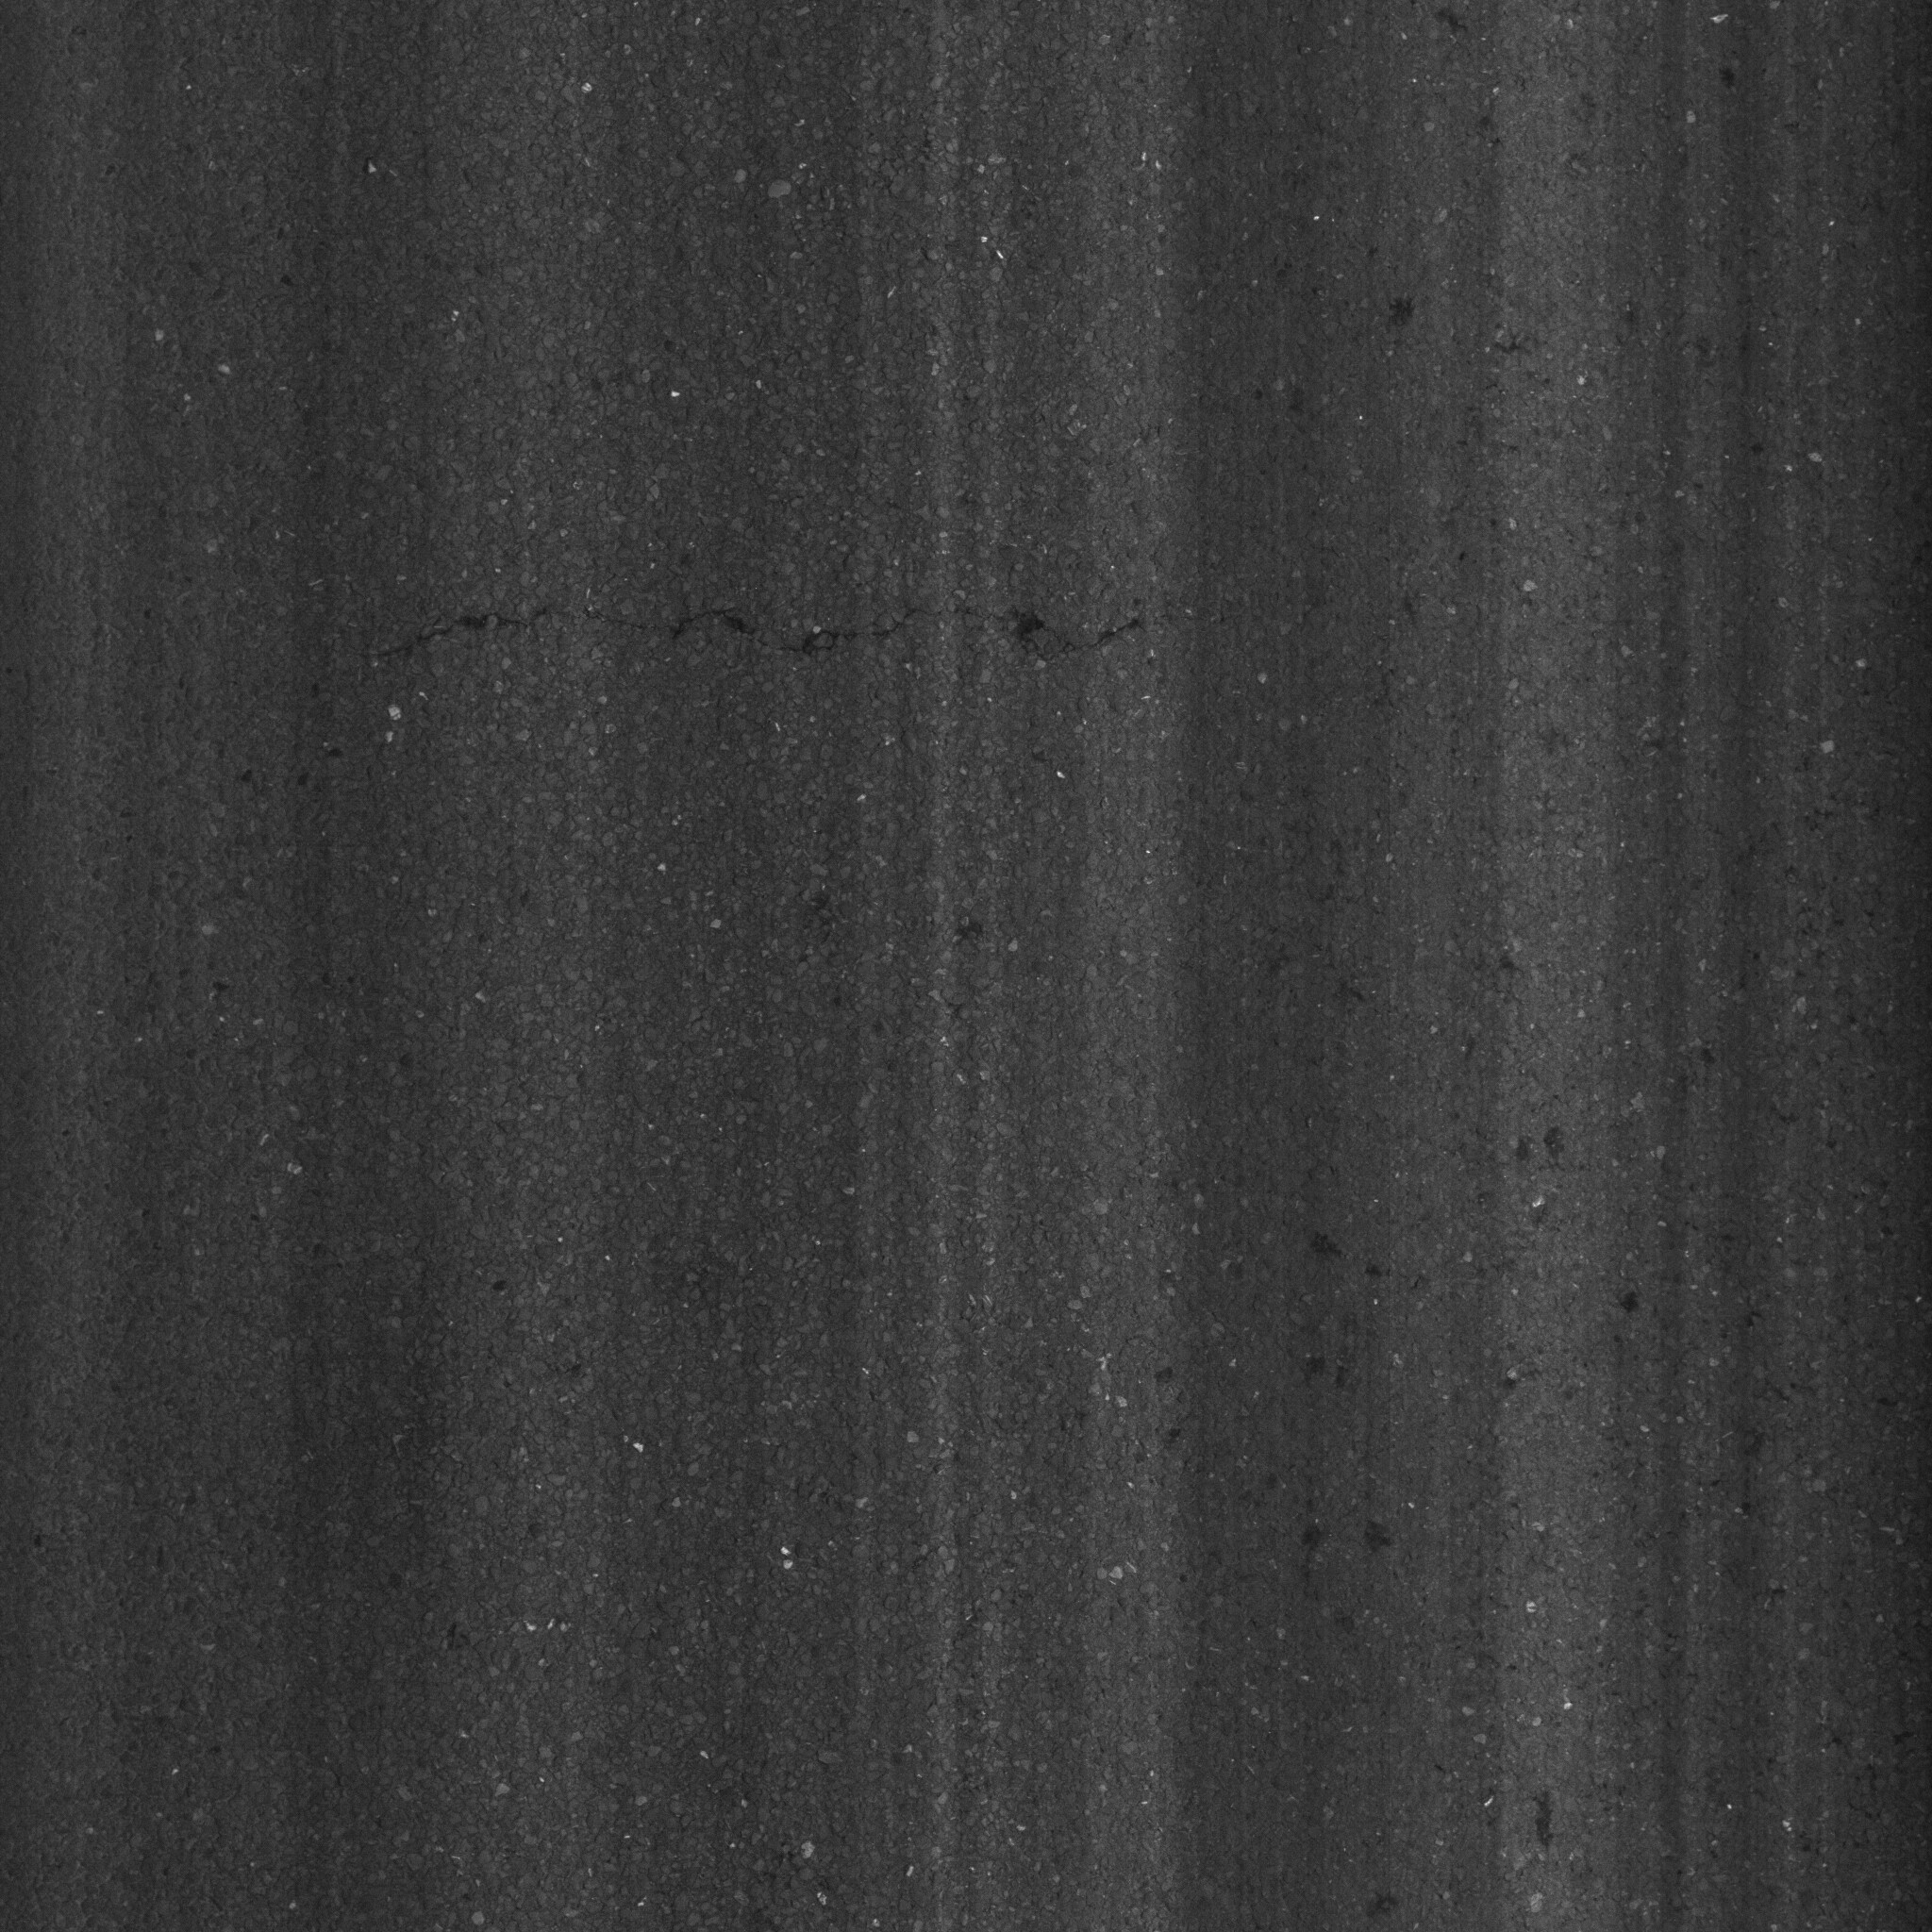transverse: (294, 552, 1223, 694)
